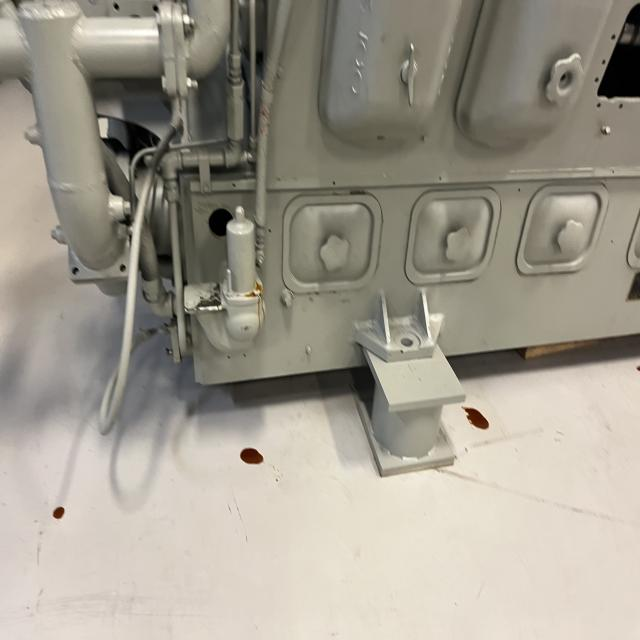Oil Leak: (243, 277, 265, 324), (463, 407, 489, 430), (240, 448, 263, 464), (53, 506, 65, 519)
